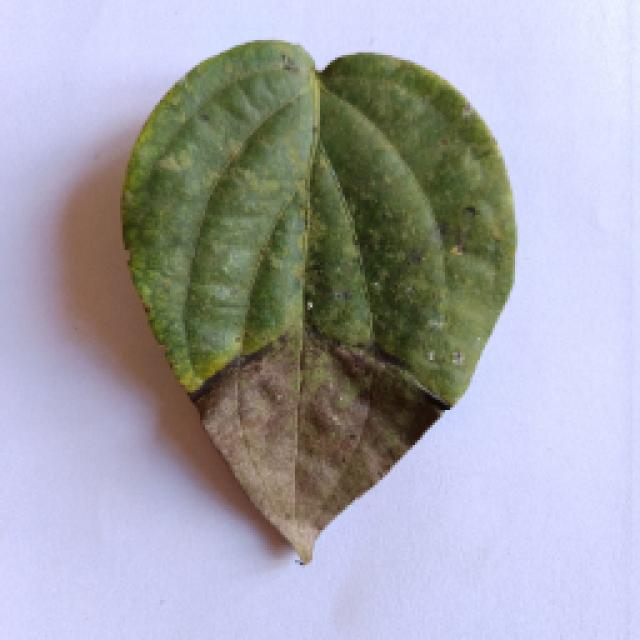footrot: (120, 40, 510, 558)
